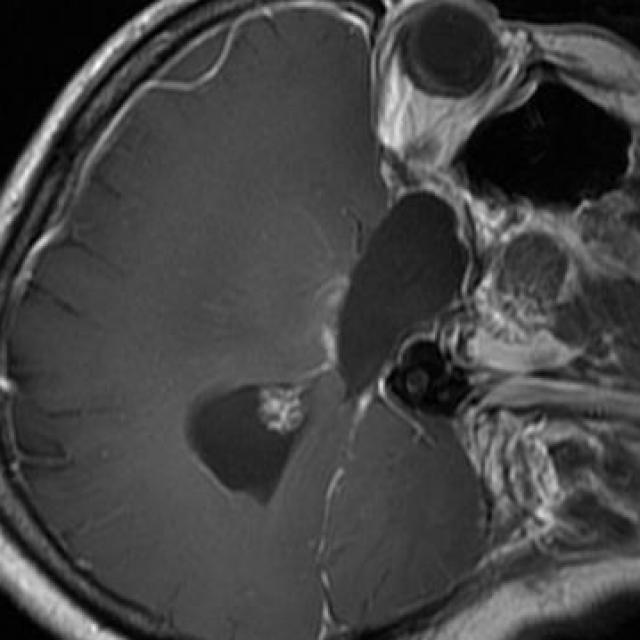glioma: (185, 193, 467, 508)
